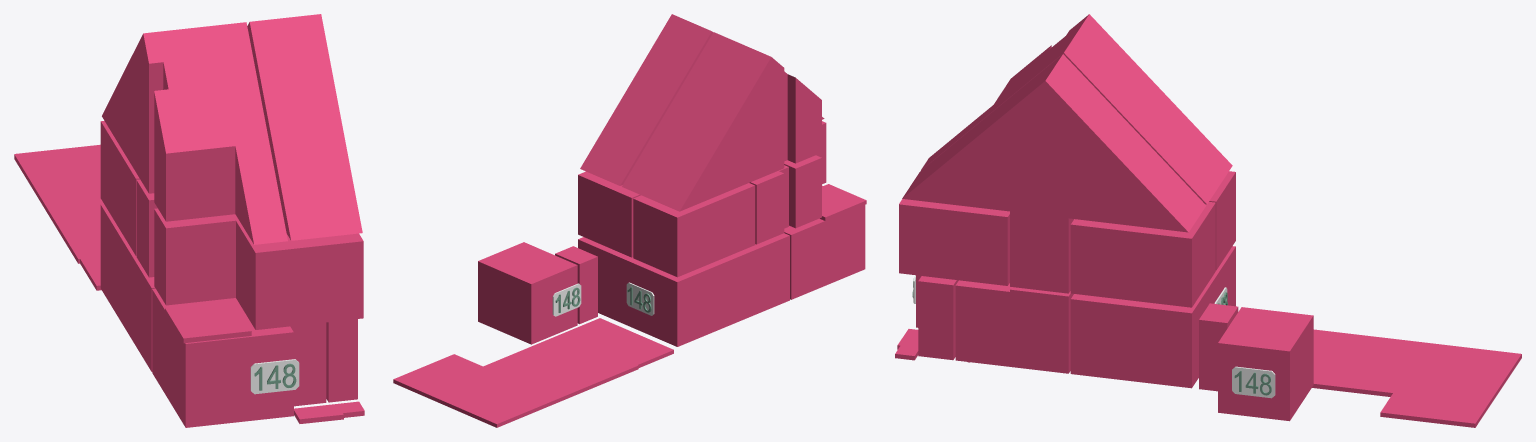
The picture shows the model from 3 angles, left to right: view 1: azimuth 30°, elevation 25°; view 2: azimuth 150°, elevation 25°; view 3: azimuth 270°, elevation 25°; orthographic projection. The views are drawn at different scales.
Parts seen in each view (by area): view 1: g_6, g_11, g_7, g_1, g_15, g_0, g_10, g_17, g_5, g_2, g_8, g_13 (+2 smaller); view 2: g_6, g_15, g_0, g_10, g_7, g_3, g_1, g_9, g_11, g_13, g_4, g_17 (+3 smaller); view 3: g_7, g_15, g_0, g_6, g_9, g_2, g_3, g_11, g_8, g_14, g_5, g_4 (+3 smaller).
Part boxes in pixels (bbox=[...]): g_6: bbox=[102, 22, 287, 244]; g_11: bbox=[154, 208, 363, 329]; g_7: bbox=[247, 17, 362, 240]; g_1: bbox=[152, 288, 293, 427]; g_15: bbox=[14, 144, 103, 290]; g_0: bbox=[100, 204, 155, 371]; g_10: bbox=[100, 121, 139, 255]; g_17: bbox=[165, 300, 251, 343]; g_5: bbox=[326, 319, 357, 402]; g_2: bbox=[290, 322, 326, 406]; g_8: bbox=[287, 14, 331, 71]; g_13: bbox=[136, 179, 157, 277]; g_6: bbox=[622, 32, 824, 211]; g_15: bbox=[393, 318, 673, 427]; g_0: bbox=[578, 233, 789, 346]; g_10: bbox=[633, 183, 755, 277]; g_7: bbox=[580, 22, 713, 185]; g_3: bbox=[478, 242, 577, 344]; g_1: bbox=[784, 185, 865, 299]; g_9: bbox=[578, 171, 640, 257]; g_11: bbox=[784, 121, 826, 228]; g_13: bbox=[749, 165, 788, 244]; g_4: bbox=[555, 246, 597, 324]; g_17: bbox=[820, 184, 866, 220]; g_7: bbox=[902, 54, 1206, 232]; g_15: bbox=[1312, 329, 1521, 427]; g_0: bbox=[1070, 246, 1235, 388]; g_6: bbox=[921, 14, 1232, 204]; g_9: bbox=[1070, 202, 1215, 307]; g_2: bbox=[955, 280, 1073, 373]; g_3: bbox=[1218, 307, 1313, 421]; g_11: bbox=[899, 199, 1009, 285]; g_8: bbox=[1010, 68, 1076, 218]; g_14: bbox=[1010, 212, 1073, 293]; g_5: bbox=[918, 276, 958, 360]; g_4: bbox=[1199, 303, 1238, 391].
Size of the model in its own units: 10.22 by 10.25 by 19.73.
